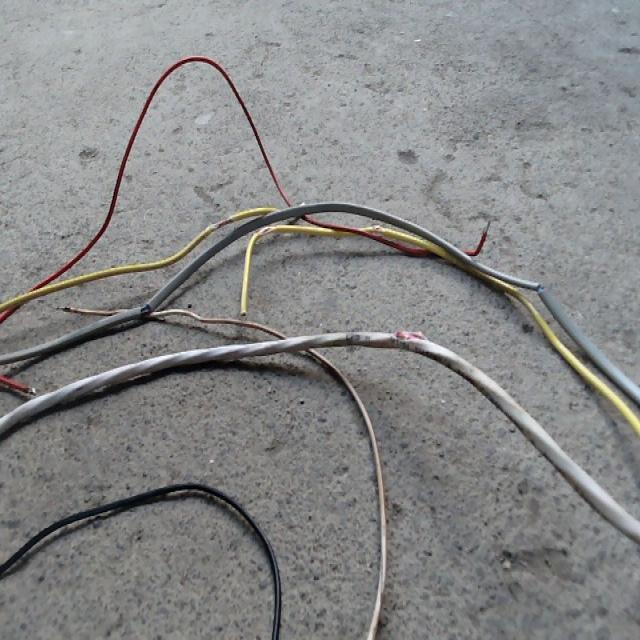-: (394, 327, 426, 348)
